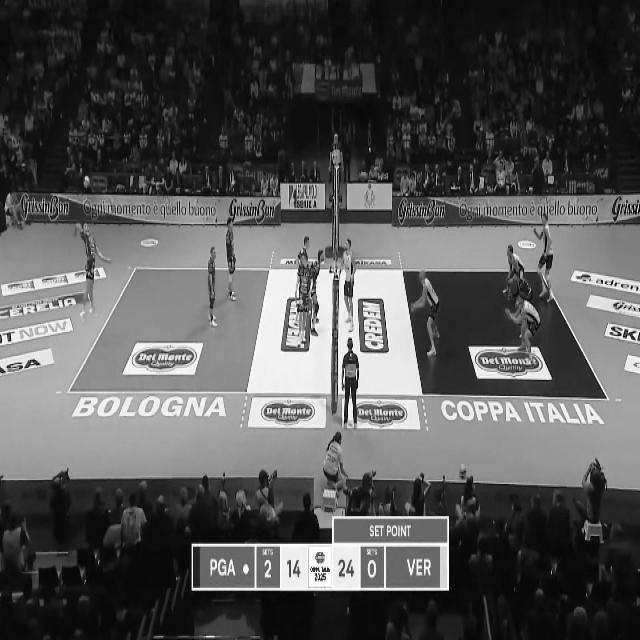volleyball court: (66, 268, 610, 400)
